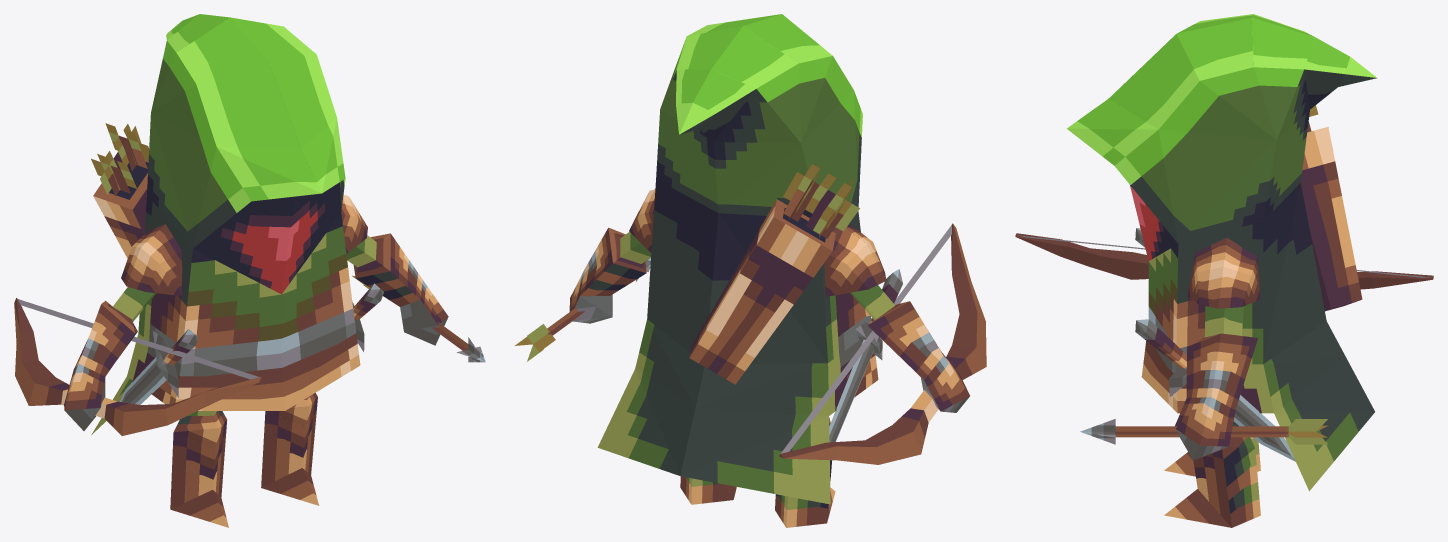
The model's file is ittybittyranger.glb.
3 renders of one model, left to right at view 1: azimuth 30°, elevation 25°; view 2: azimuth 150°, elevation 25°; view 3: azimuth 270°, elevation 25°, orthographic. The views are drawn at different scales.
Visible parts, largest first — view 1: Object_2; view 2: Object_2; view 3: Object_2.
Boxes of the visible parts, x1,y1,x2,y2 form: Object_2: [14, 14, 485, 527]; Object_2: [515, 14, 986, 527]; Object_2: [1015, 14, 1433, 527].
Size of the model in its own units: 1.11 by 1.29 by 1.03.
1 material, 1 textured.
